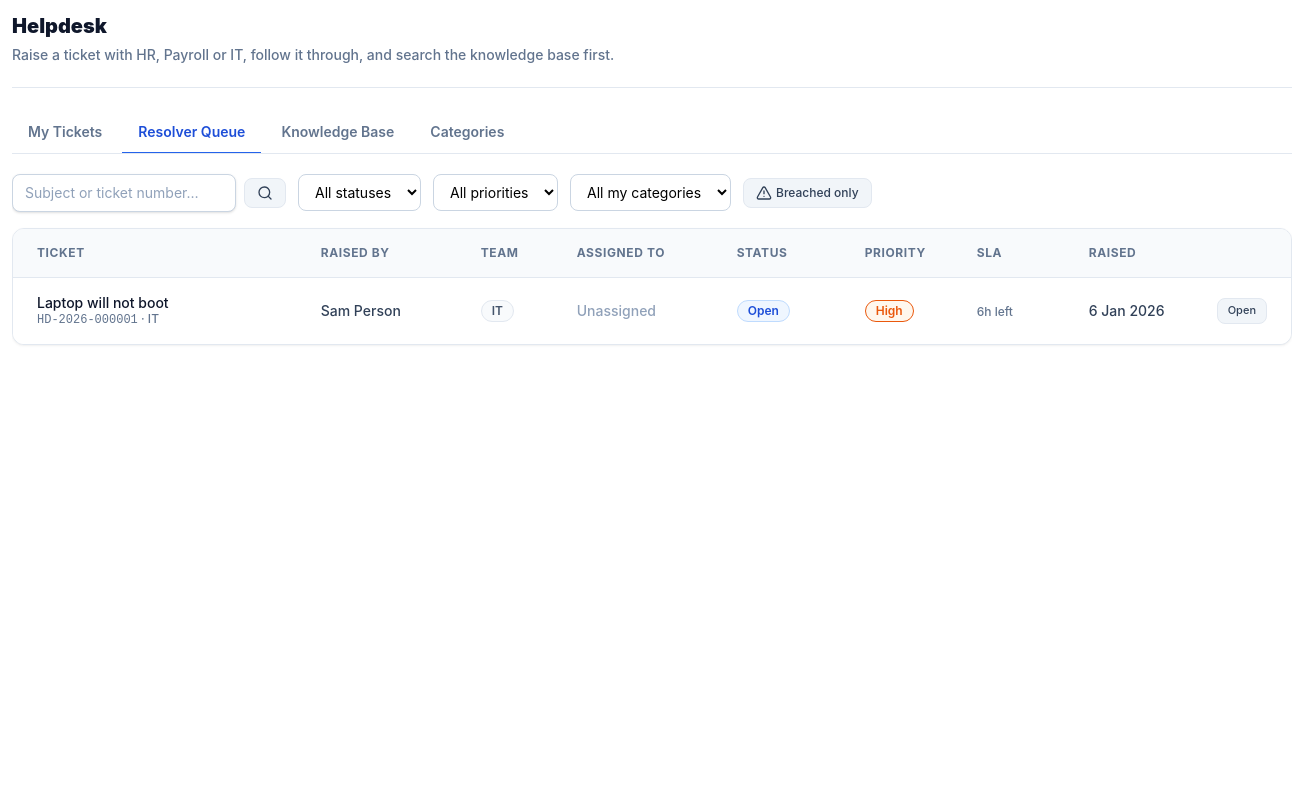
the conversation › renders the thread with author and time
Click the button "Open" at [1242, 311], box [1217, 298, 1267, 324]
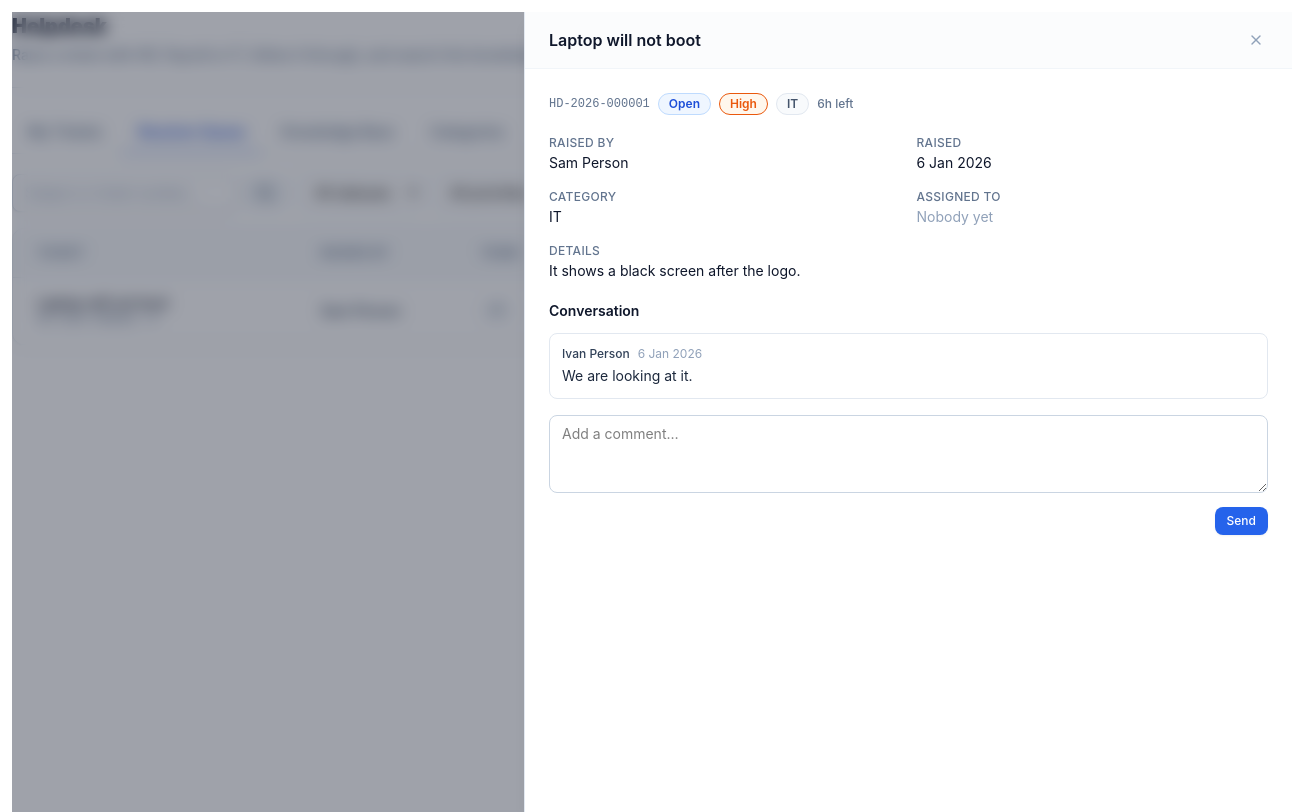
Result: the text "We are looking at it." is shown at [562, 367, 693, 384]
Result: the text "Ivan Person" is shown at [562, 346, 630, 362]
